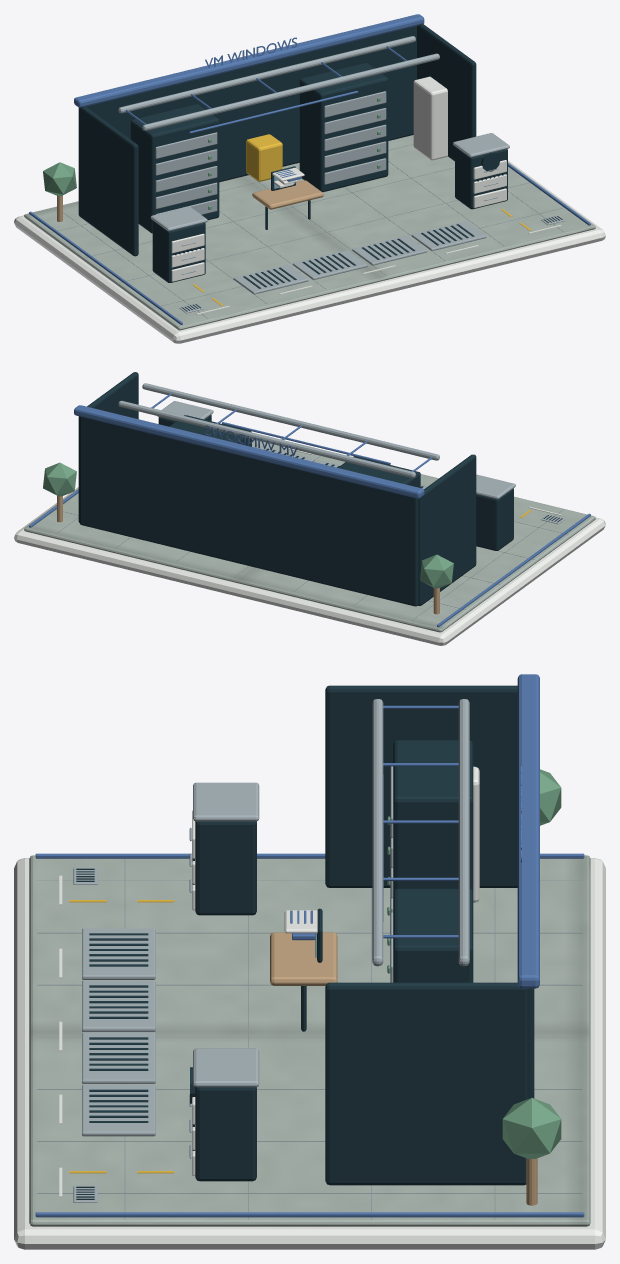
The model's file is vmvre.glb.
3 renders of one model, top to bottom at view 1: azimuth 30°, elevation 25°; view 2: azimuth 150°, elevation 25°; view 3: azimuth 270°, elevation 25°, orthographic. The views are drawn at different scales.
Parts seen in each view (by area): view 1: Activity ground, StaticWorkshop_1, StaticWorkshop_0, StaticWorkshop_8, StaticWorkshop_2, Server rack.001, Server rack, StaticWorkshop_6, StaticWorkshop_3, StaticWorkshop_4, StaticWorkshop_7, Rack drawer.004 (+8 smaller); view 2: StaticWorkshop_1, Activity ground, StaticWorkshop_0, StaticWorkshop_2, StaticWorkshop_8, StaticWorkshop_7, Server rack, Server rack.001, StaticWorkshop_6; view 3: Activity ground, StaticWorkshop_1, StaticWorkshop_0, StaticWorkshop_8, StaticWorkshop_2, Server rack, Server rack.001, StaticWorkshop_4, StaticWorkshop_7, StaticWorkshop_6, Document bundle.
Boxes of the visible parts, left/top/right/bottom form: Activity ground: left=24, top=135, right=595, bottom=330; StaticWorkshop_1: left=78, top=23, right=562, bottom=311; StaticWorkshop_0: left=14, top=76, right=605, bottom=343; StaticWorkshop_8: left=118, top=36, right=564, bottom=313; StaticWorkshop_2: left=29, top=14, right=590, bottom=324; Server rack.001: left=299, top=63, right=388, bottom=192; Server rack: left=130, top=104, right=219, bottom=233; StaticWorkshop_6: left=51, top=144, right=568, bottom=318; StaticWorkshop_3: left=193, top=134, right=531, bottom=305; StaticWorkshop_4: left=57, top=180, right=323, bottom=221; StaticWorkshop_7: left=43, top=162, right=76, bottom=196; Rack drawer.004: left=155, top=132, right=217, bottom=158; StaticWorkshop_1: left=78, top=372, right=562, bottom=606; Activity ground: left=24, top=439, right=595, bottom=632; StaticWorkshop_0: left=14, top=446, right=605, bottom=645; StaticWorkshop_2: left=29, top=393, right=590, bottom=627; StaticWorkshop_8: left=118, top=383, right=564, bottom=524; StaticWorkshop_7: left=43, top=462, right=453, bottom=588; Server rack: left=338, top=456, right=420, bottom=487; Server rack.001: left=169, top=415, right=251, bottom=446; StaticWorkshop_6: left=51, top=441, right=568, bottom=620; Activity ground: left=29, top=855, right=590, bottom=1226; StaticWorkshop_1: left=76, top=685, right=534, bottom=1199; StaticWorkshop_0: left=14, top=766, right=605, bottom=1249; StaticWorkshop_8: left=73, top=699, right=469, bottom=1202; StaticWorkshop_2: left=35, top=674, right=584, bottom=1217; Server rack: left=393, top=740, right=473, bottom=891; Server rack.001: left=393, top=888, right=473, bottom=982; StaticWorkshop_4: left=270, top=932, right=537, bottom=1205; StaticWorkshop_7: left=502, top=769, right=561, bottom=1158; StaticWorkshop_6: left=37, top=859, right=582, bottom=1219; Document bundle: left=284, top=910, right=322, bottom=933.
Bounding box in the file's own units: 7.3 × 2.31 × 4.8.
19 materials, 1 textured.
